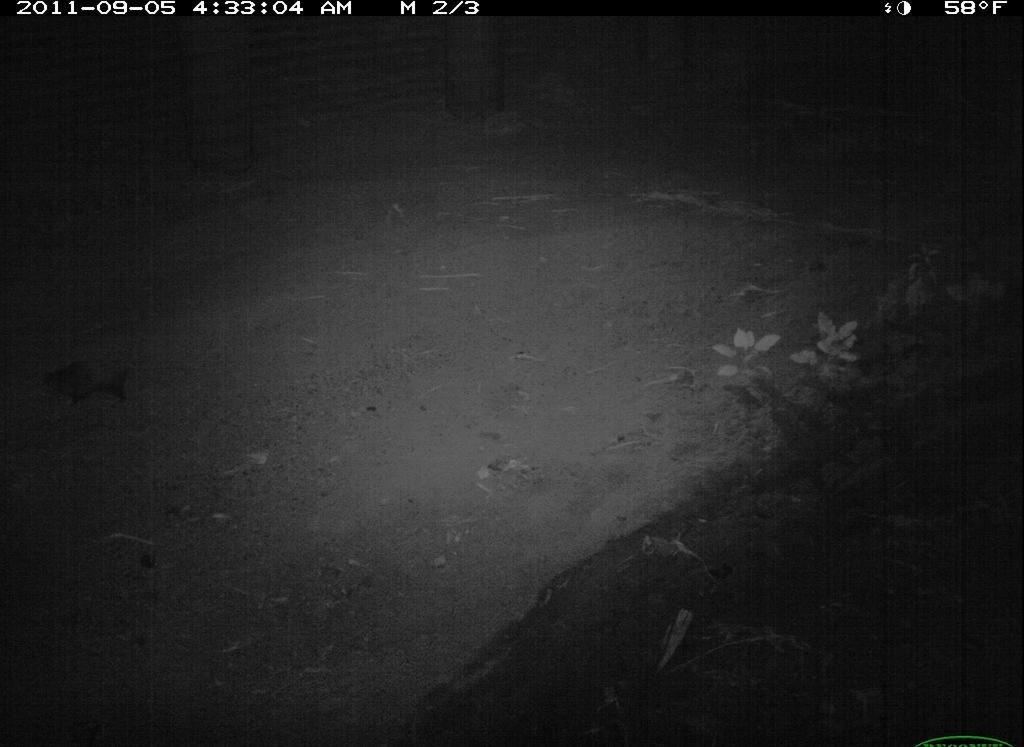opossum: (47, 347, 166, 425)
